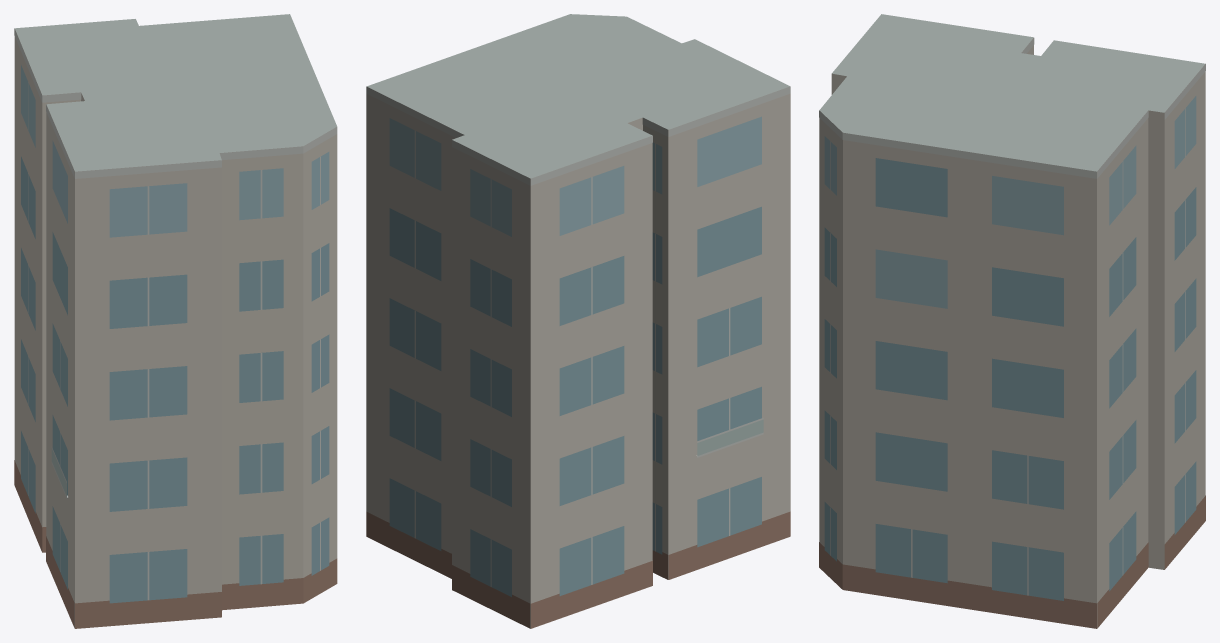
The model's file is survey-upis-32583110.glb.
The picture shows the model from 3 angles, left to right: view 1: azimuth 30°, elevation 25°; view 2: azimuth 150°, elevation 25°; view 3: azimuth 270°, elevation 25°; orthographic projection.
Visible parts, largest first — view 1: survey-upis-32583110.tmp; view 2: survey-upis-32583110.tmp; view 3: survey-upis-32583110.tmp.
Part boxes in pixels (x1=…): survey-upis-32583110.tmp: x1=14, y1=14, x2=337, y2=628; survey-upis-32583110.tmp: x1=366, y1=14, x2=790, y2=628; survey-upis-32583110.tmp: x1=819, y1=14, x2=1205, y2=628.
Size of the model in its own units: 11.28 by 15.25 by 11.69.
